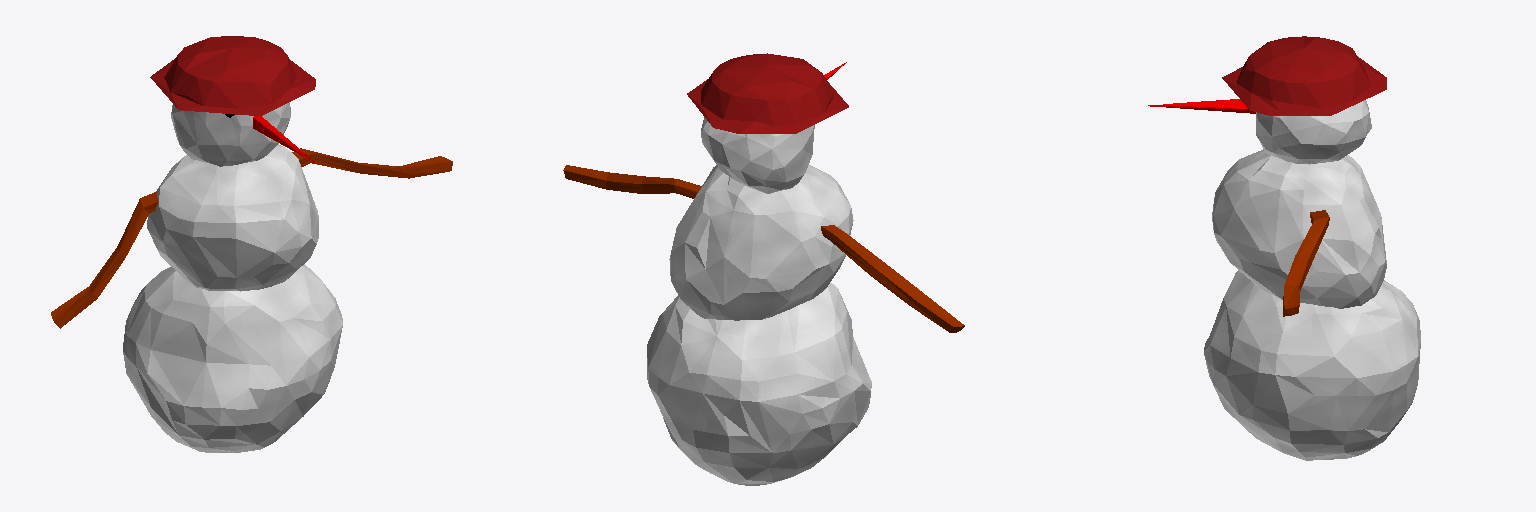
3 views of the same model, side by side, from view 1: azimuth 30°, elevation 25°; view 2: azimuth 150°, elevation 25°; view 3: azimuth 270°, elevation 25° (orthographic).
Visible parts, largest first — view 1: Cylinder02, Mesh02, Mesh01, Object01, Mesh04; view 2: Cylinder02, Mesh02, Mesh01, Object01; view 3: Cylinder02, Mesh02, Object01, Mesh04.
Part boxes in pixels (left/top/right/bottom): Cylinder02: left=123, top=102, right=342, bottom=452; Mesh02: left=150, top=36, right=315, bottom=115; Mesh01: left=51, top=192, right=158, bottom=328; Object01: left=292, top=148, right=452, bottom=178; Mesh04: left=253, top=116, right=315, bottom=163; Cylinder02: left=647, top=117, right=871, bottom=485; Mesh02: left=687, top=53, right=848, bottom=133; Mesh01: left=821, top=225, right=964, bottom=332; Object01: left=563, top=165, right=701, bottom=198; Cylinder02: left=1204, top=100, right=1420, bottom=460; Mesh02: left=1222, top=36, right=1386, bottom=115; Object01: left=1283, top=210, right=1329, bottom=316; Mesh04: left=1148, top=99, right=1255, bottom=113.
Size of the model in its own units: 99.08 by 95.99 by 60.76.
Materials: 5 (1 with a texture image).